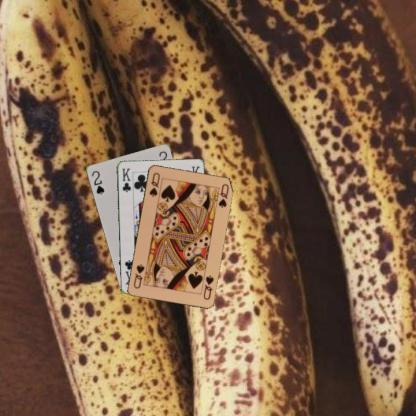2s: (89, 168, 105, 196)
Kc: (119, 166, 132, 193)
Qs: (200, 272, 215, 301), (146, 170, 160, 198)
